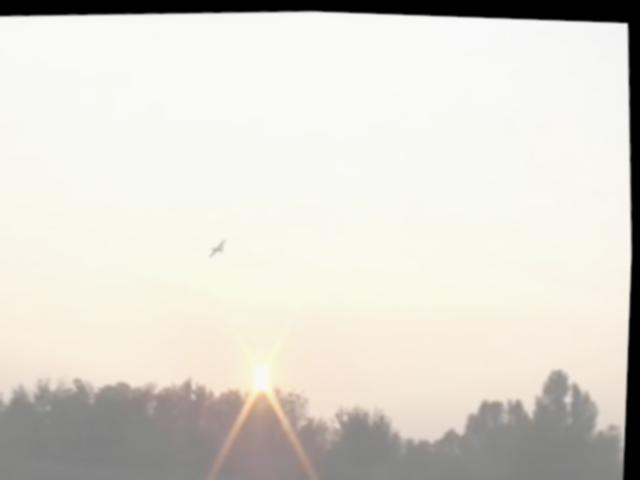iha: (212, 238, 227, 256)
